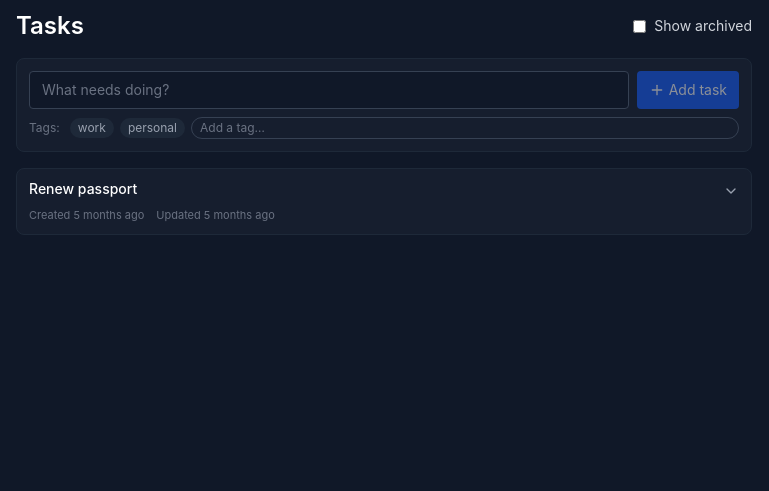
Test: Tasks – archive toggle › archives a task via PATCH and dims/removes the card
Expected: the text "Renew passport" is shown, [29, 179, 137, 199]
Click the button with aria-label "Expand task". click: (83, 188)
box: [17, 169, 751, 234]
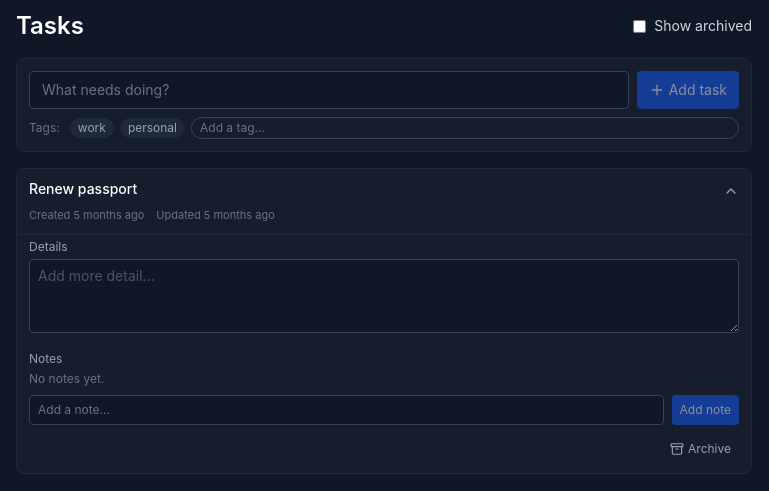
Expected: the list item "No notes yet." is shown, [29, 370, 104, 386]
Click the button "Archive". click: (700, 448)
box: [662, 436, 739, 460]
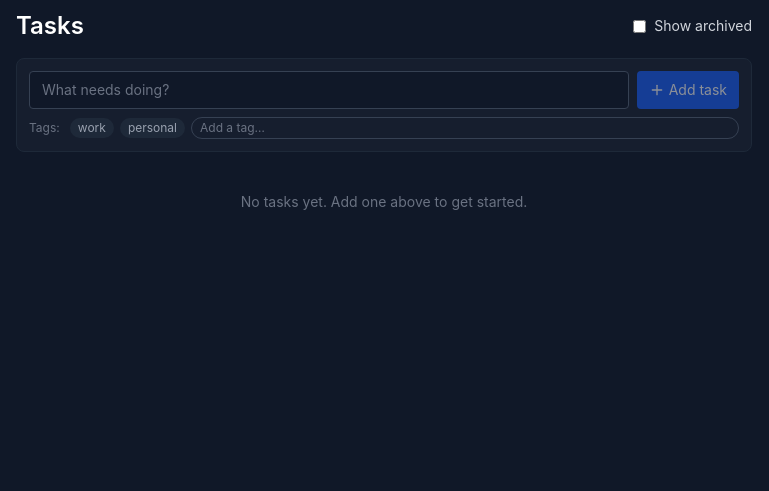
Expected: the button "Renew passport" is gone
